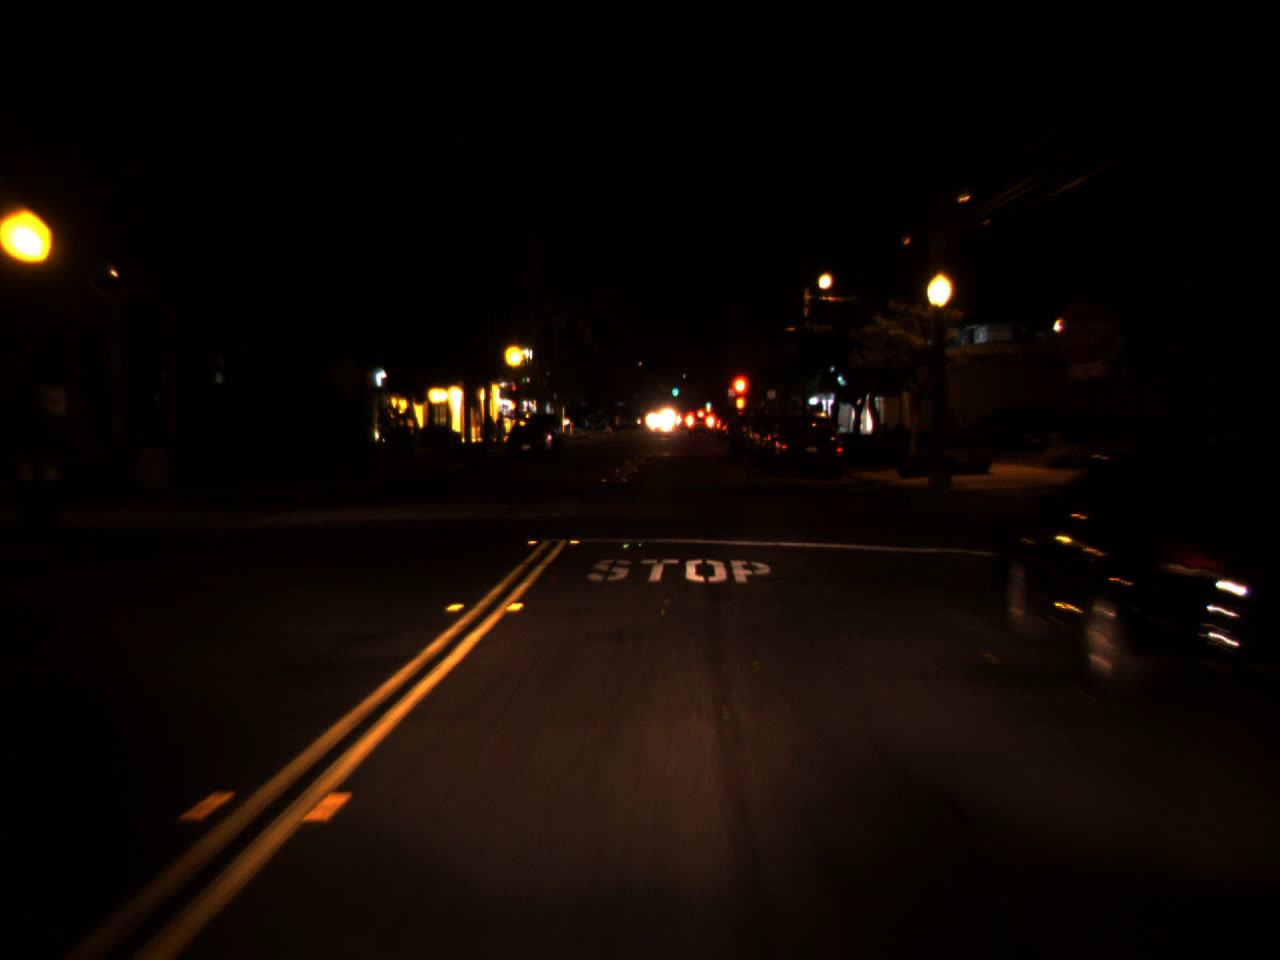go: (667, 377, 679, 398), (703, 396, 712, 408)
stop: (728, 371, 752, 419), (506, 382, 515, 398)
